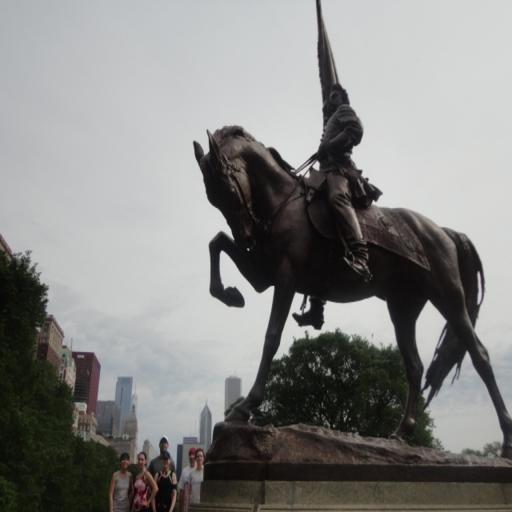Horse: (191, 122, 511, 460)
